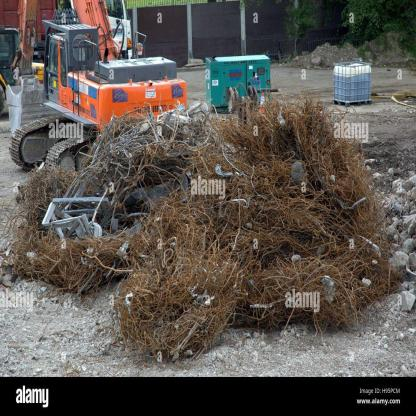rebar: (0, 77, 409, 373)
